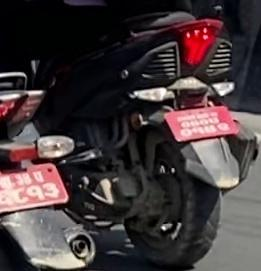license-plate: (156, 101, 254, 146)
